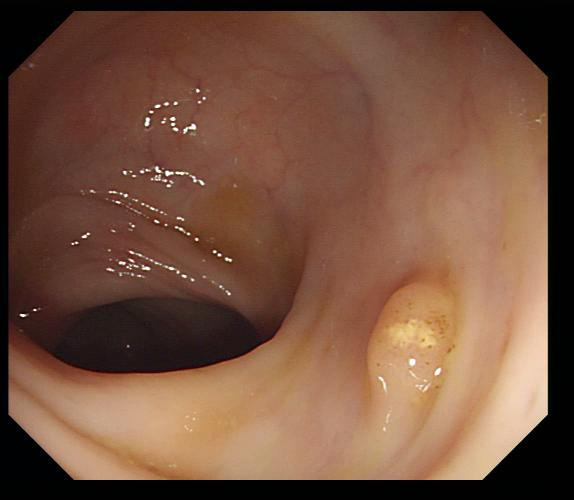polyp: (362, 275, 456, 415)
